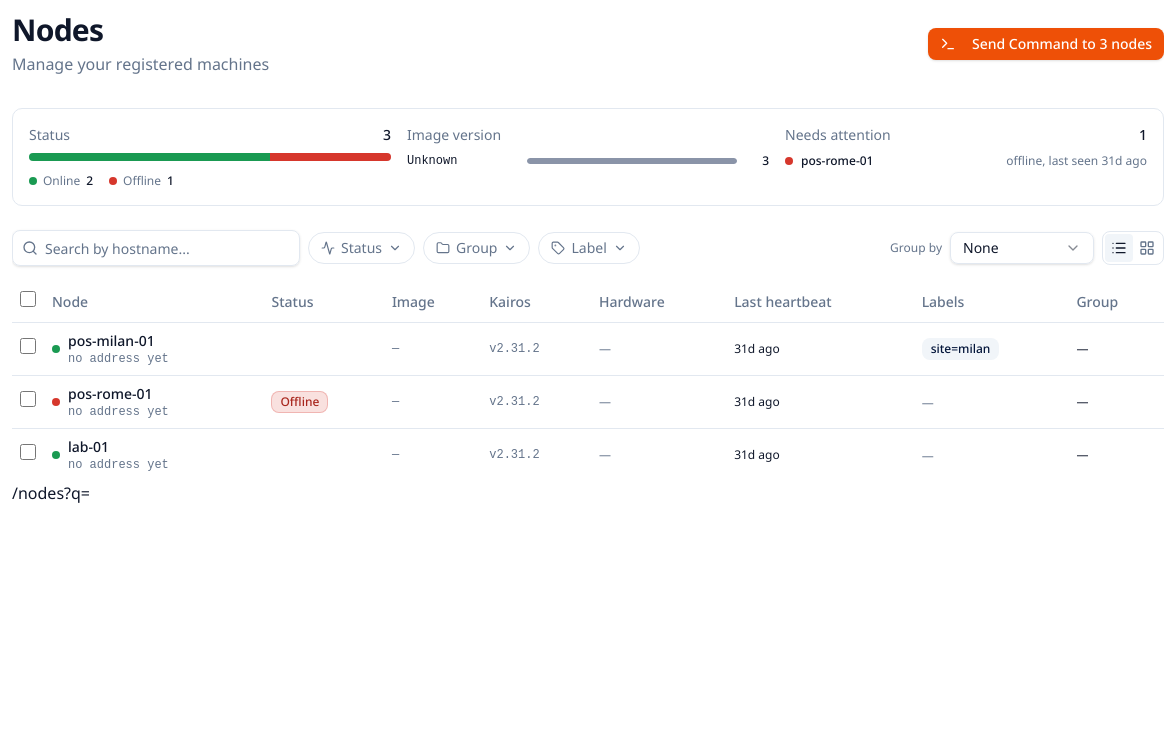
Nodes selection › switches to tiles with one tile per node and keeps view in the URL
Check: the text "lab-01" is shown, box [68,436,109,456]
Click the radio button named "Tiles". click: click(1147, 248)
box: [1133,234,1161,262]
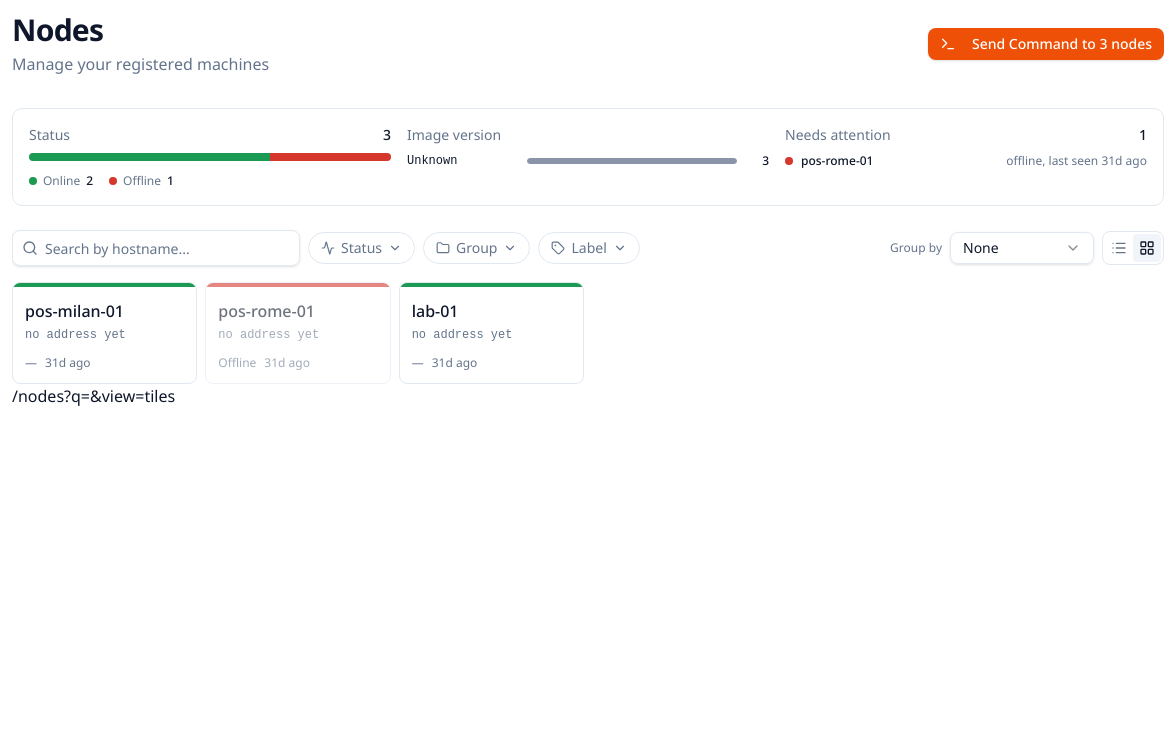
Check: the text with test id "location" shows "view=tiles", box [12,385,175,407]
Check: the table is gone
Check: the number of buttons with test id "node-tile" is 3, box [12,282,197,384]; [205,282,391,384]; [399,282,584,384]
